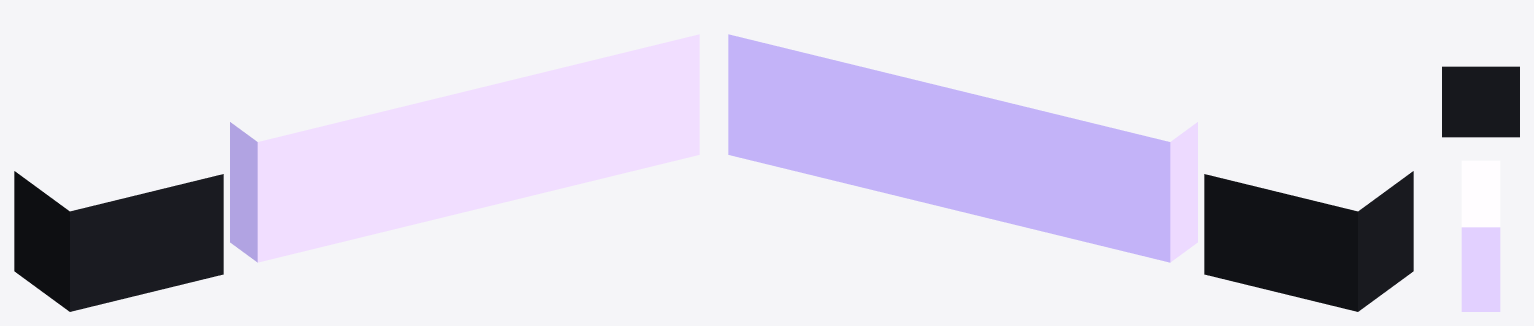
Rendered from riki.glb.
3 views of the same model, side by side, from view 1: azimuth 30°, elevation 25°; view 2: azimuth 150°, elevation 25°; view 3: azimuth 270°, elevation 25° (orthographic). The views are drawn at different scales.
Visible parts, largest first — view 1: riki-edge, riki-grip; view 2: riki-edge, riki-grip; view 3: riki-edge, riki-grip.
Part boxes in pixels (x1,y1,x2,y2): riki-edge: (230,34,699,262); riki-grip: (14,171,223,311); riki-edge: (728,34,1197,262); riki-grip: (1204,171,1413,311); riki-edge: (1461,160,1500,311); riki-grip: (1442,66,1519,137).
Bounding box in the file's own units: 0.67 × 0.12 × 0.1.
